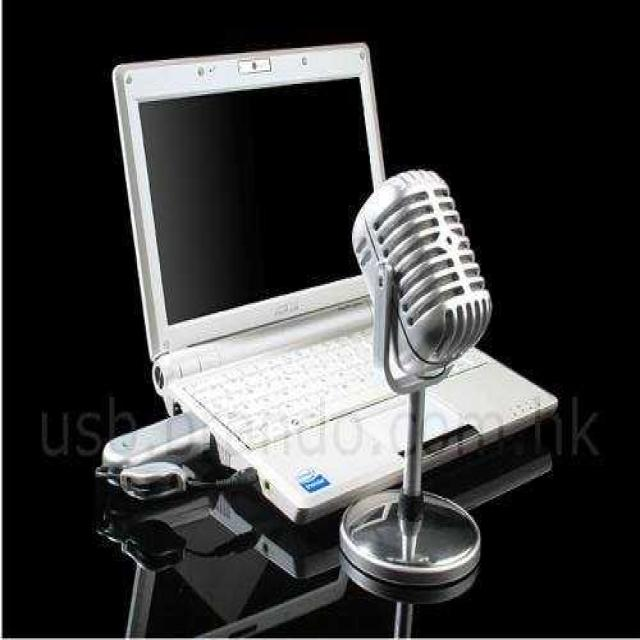microphone: (351, 170, 491, 392)
